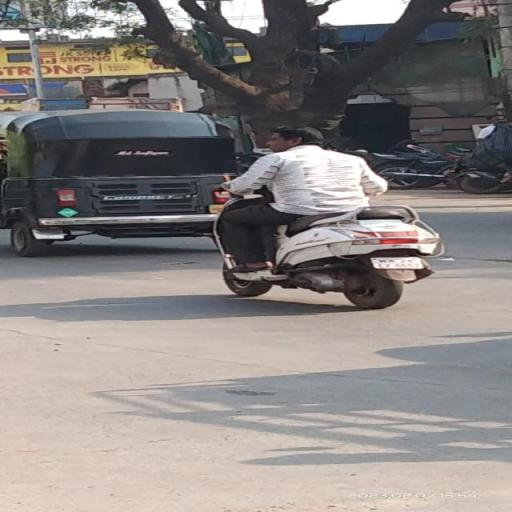bike: (207, 122, 444, 308)
withouthelmet: (271, 127, 316, 148)
